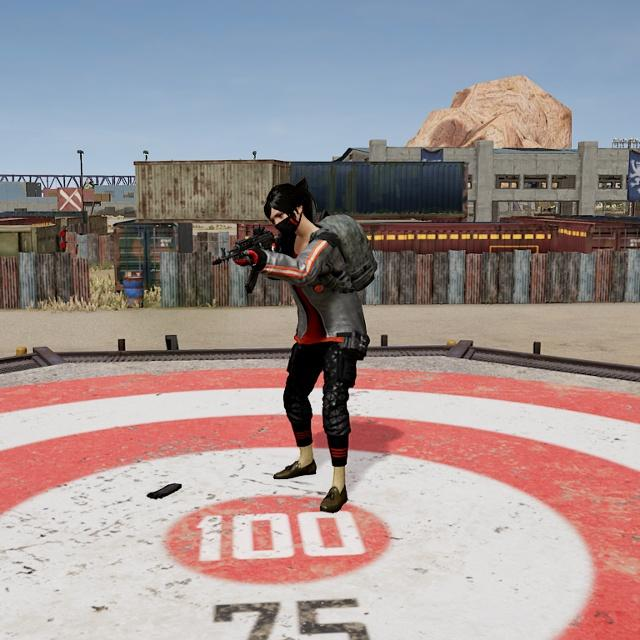head: (261, 181, 313, 239)
people: (247, 178, 375, 515)
